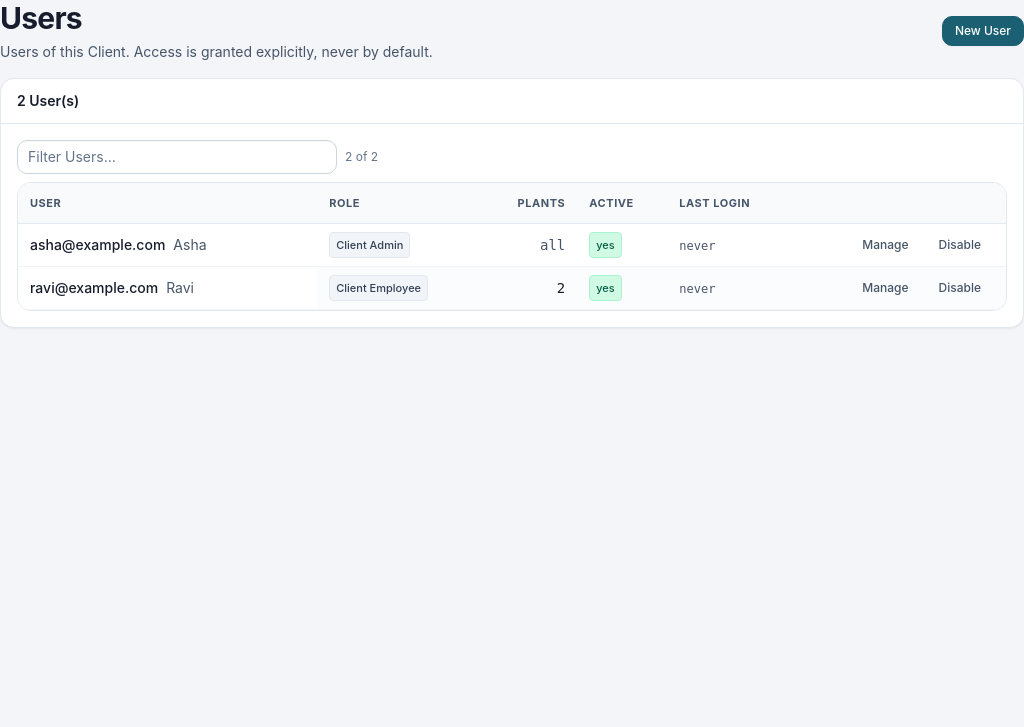
Scenario: Users: the Manage panel › changes a role and a name in one save, sending only what changed
The width and height of the screenshot is (1024, 727).
Click the button "Manage" in the row of "ravi@example.com" at [885, 288], box [849, 273, 922, 303]
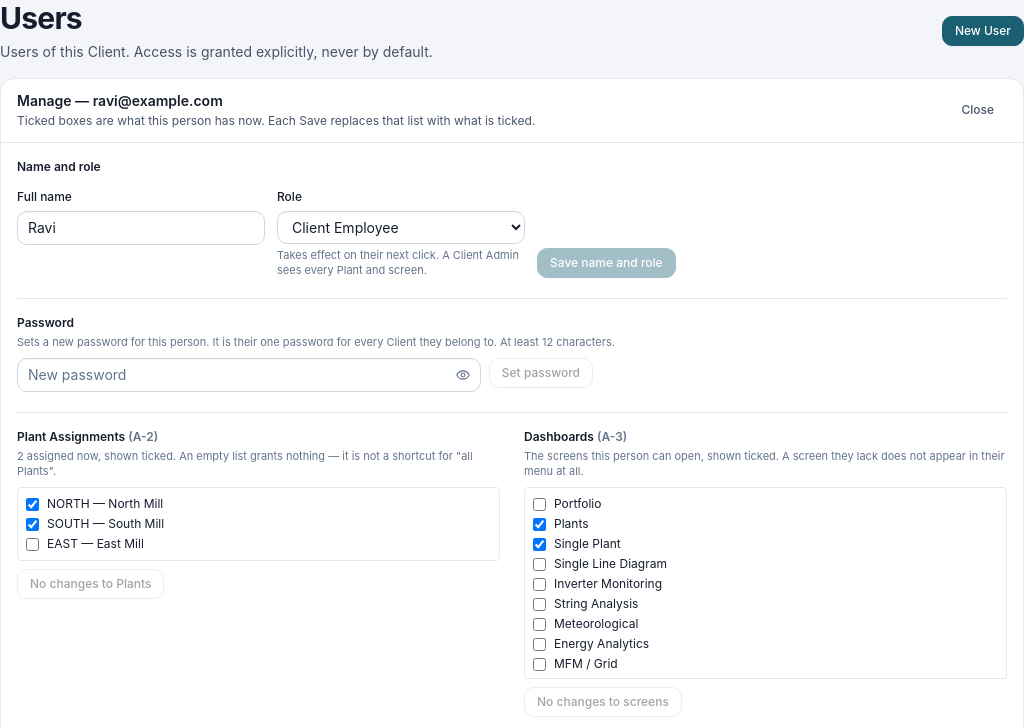
Select "Client Admin" in the dropdown named "Role of ravi@example.com" at [401, 227], box [277, 210, 525, 244]
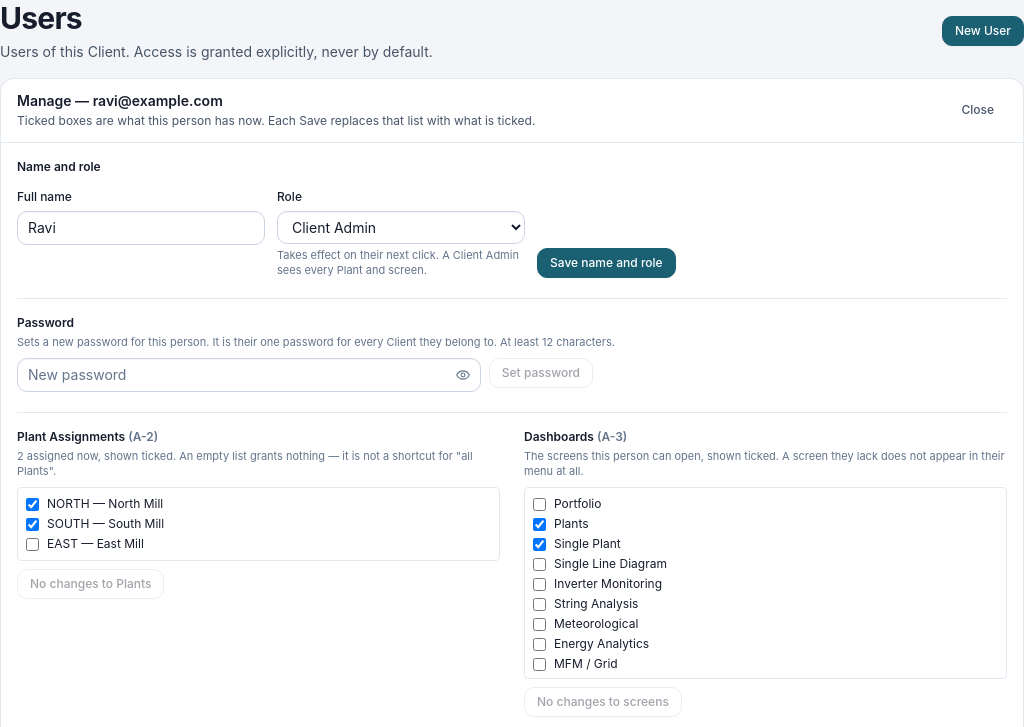
Click the button "Save name and role" at [606, 263], box [537, 248, 676, 278]
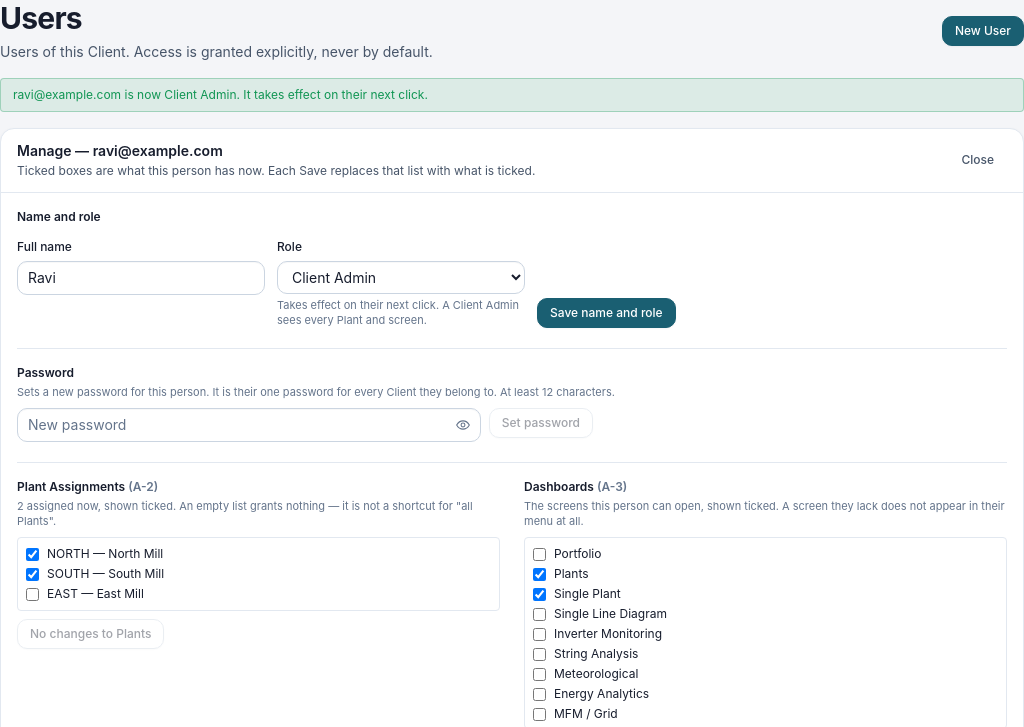
Result: the text "is now Client Admin" is shown at [13, 87, 428, 102]
